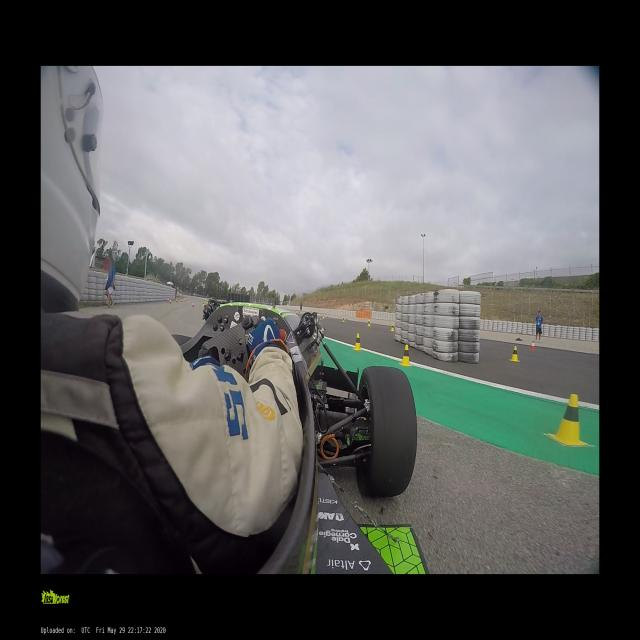orange_cone: (529, 341, 535, 351), (191, 302, 194, 307), (169, 299, 171, 303), (167, 298, 169, 302)
yellow_cone: (550, 394, 585, 447), (398, 344, 412, 366), (509, 346, 520, 362), (353, 334, 362, 351), (390, 324, 394, 332), (367, 320, 370, 327), (342, 317, 344, 322), (322, 314, 324, 318)
